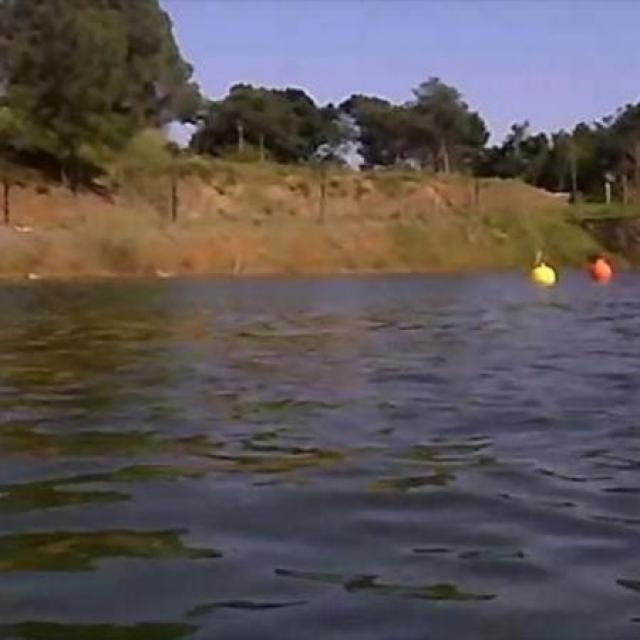buoy: (533, 264, 556, 285), (592, 257, 611, 279)
